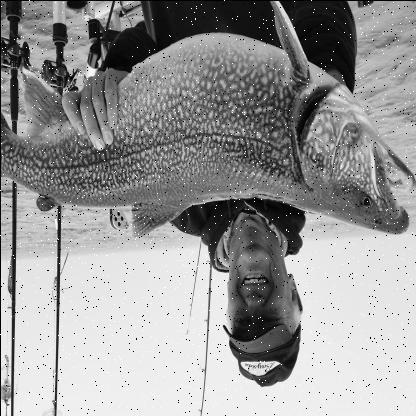fish: (0, 0, 415, 238)
